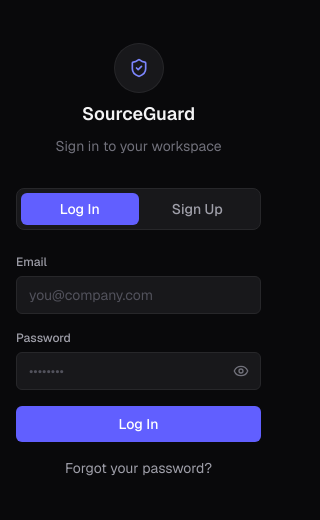
Scenario: LoginPage › surfaces a sign-in error without redirecting
This screenshot has width=320, height=520.
Type "alex@example.com" into the field labelled "Email". click: x=138, y=295
box: 16,276 -> 261,314
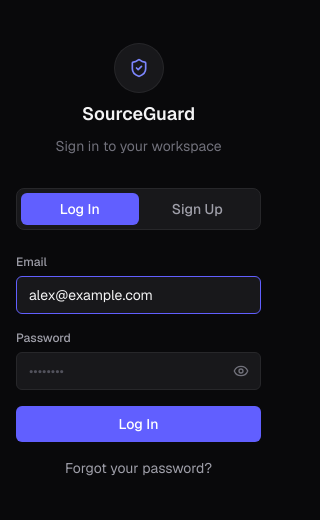
Type "hunter2hunter2" into the password field labelled "Password". click: x=138, y=371
box: 16,352 -> 261,390
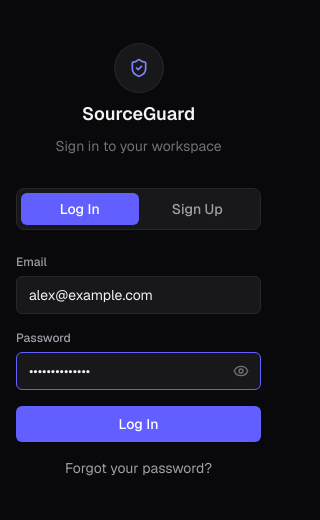
Click the button "Log In" below "Email". click: x=138, y=424
box: 16,406 -> 261,442
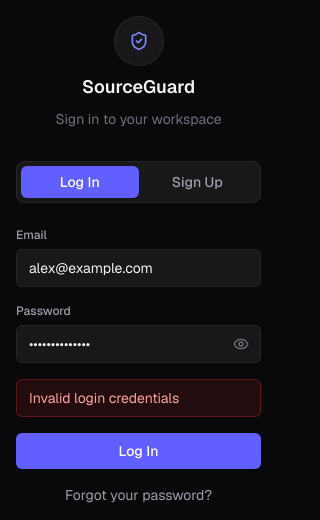
Now the text "Invalid login credentials" is shown, box 16,379 -> 261,417
